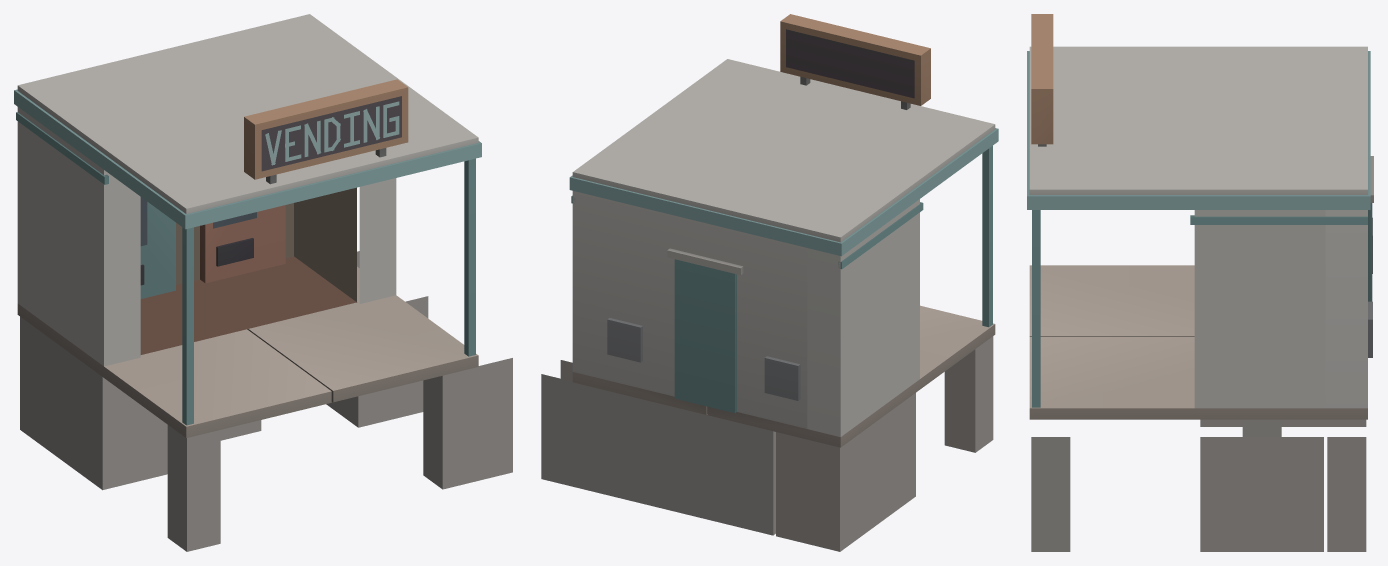
Rendered from vending.lod1.glb.
3 renders of one model, left to right at view 1: azimuth 30°, elevation 25°; view 2: azimuth 150°, elevation 25°; view 3: azimuth 270°, elevation 25°, orthographic. The views are drawn at different scales.
Size of the model in its own units: 4.51 by 5.37 by 4.1.
